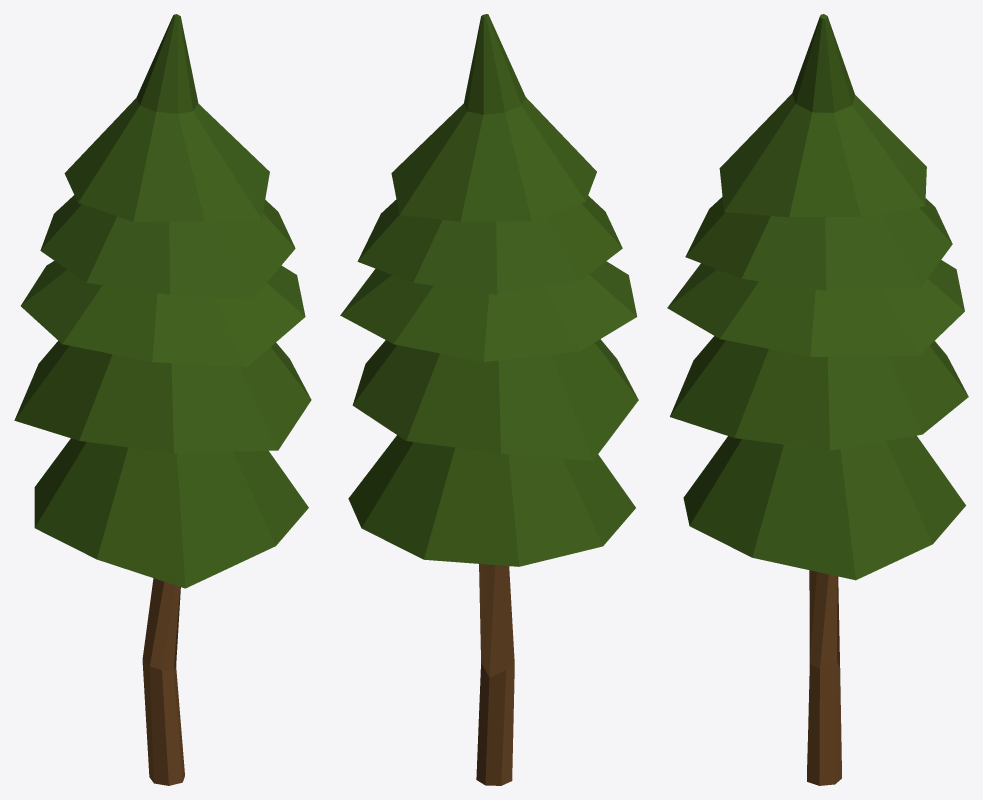
The model's file is Bomen_Spar.fbx.
3 renders of one model, left to right at view 1: azimuth 30°, elevation 25°; view 2: azimuth 150°, elevation 25°; view 3: azimuth 270°, elevation 25°, orthographic.
Parts seen in each view (by area): view 1: Denneboom2; view 2: Denneboom2; view 3: Denneboom2.
Boxes of the visible parts, left/top/right/bottom form: Denneboom2: left=14, top=14, right=311, bottom=785; Denneboom2: left=340, top=14, right=638, bottom=785; Denneboom2: left=667, top=14, right=968, bottom=785.
Size of the model in its own units: 271 by 769 by 274.
